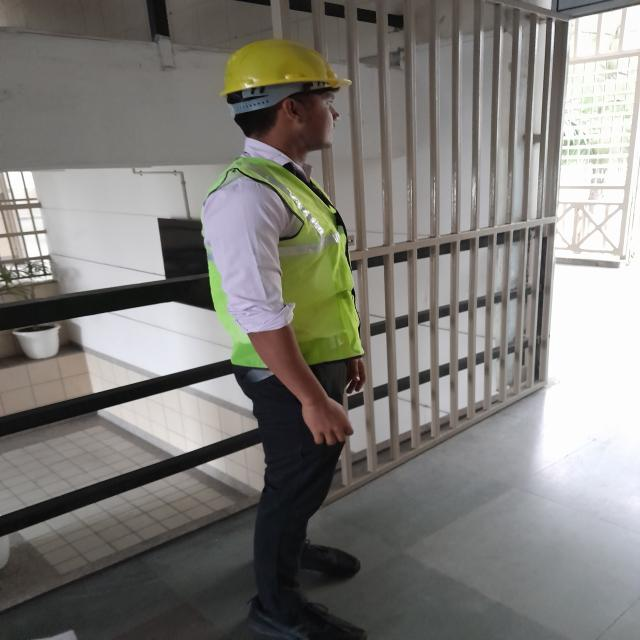safe: (200, 39, 376, 640)
